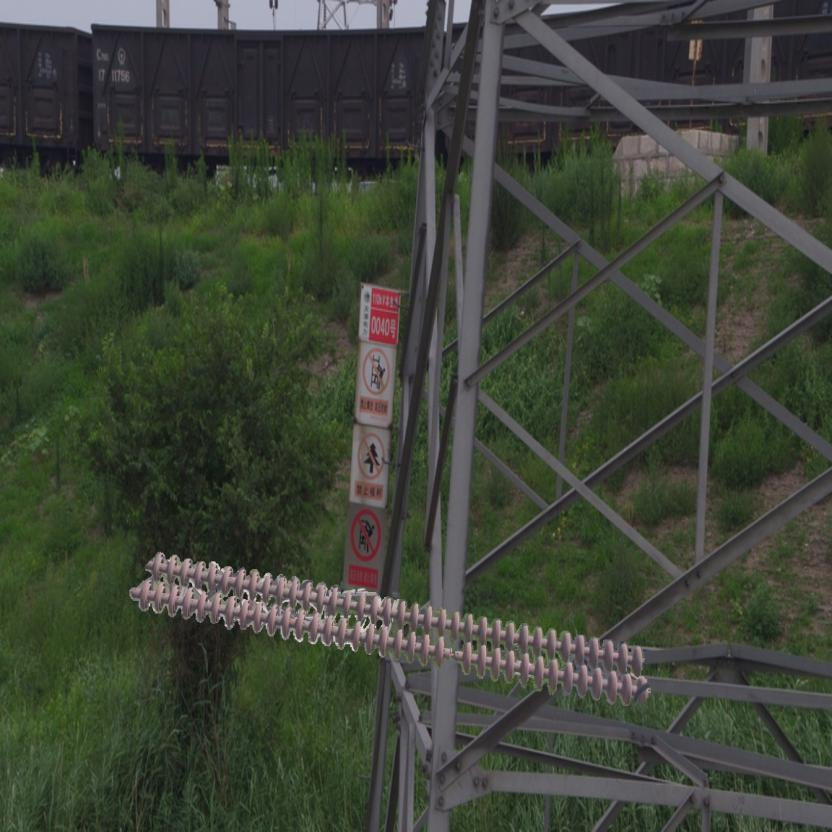defect: (430, 633, 476, 673)
